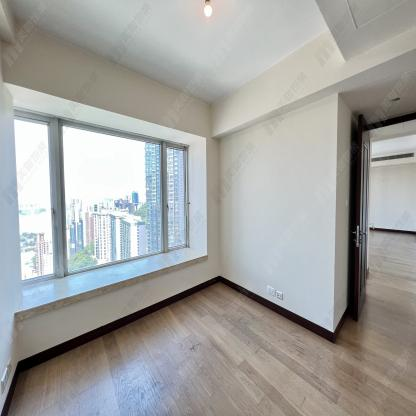Windowsill: (4, 79, 209, 323)
